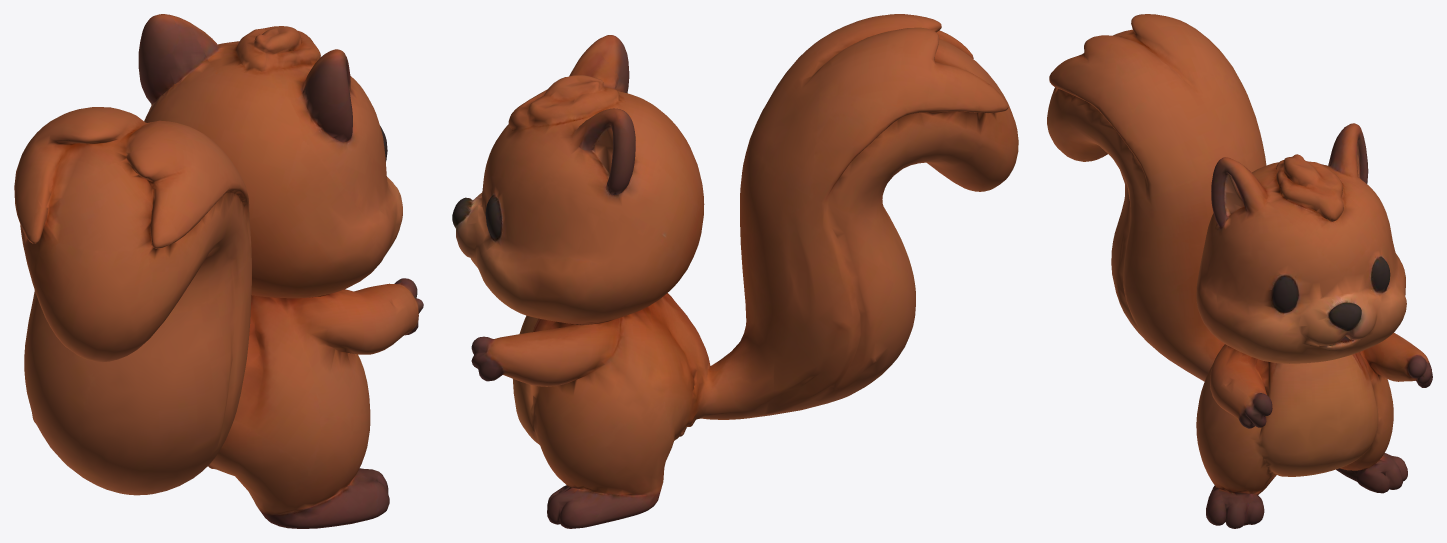
Rendered from squirrel.glb.
3 views of the same model, side by side, from view 1: azimuth 30°, elevation 25°; view 2: azimuth 150°, elevation 25°; view 3: azimuth 270°, elevation 25° (orthographic). The views are drawn at different scales.
Visible parts, largest first — view 1: tripo_node_9001b14e-bac7-4e55-abfd-78d9ae04ca75; view 2: tripo_node_9001b14e-bac7-4e55-abfd-78d9ae04ca75; view 3: tripo_node_9001b14e-bac7-4e55-abfd-78d9ae04ca75.
Boxes of the visible parts, x1,y1,x2,y2 form: tripo_node_9001b14e-bac7-4e55-abfd-78d9ae04ca75: (14, 14, 423, 528); tripo_node_9001b14e-bac7-4e55-abfd-78d9ae04ca75: (452, 14, 1018, 528); tripo_node_9001b14e-bac7-4e55-abfd-78d9ae04ca75: (1047, 14, 1432, 528).
Bounding box in the file's own units: 0.9938 × 0.9999 × 0.9065.
Materials: 1 (1 with a texture image).
